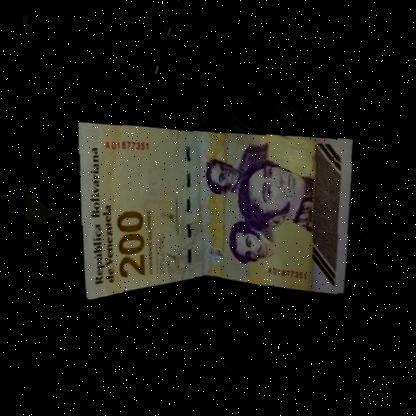two_hundred-front-vef: (56, 107, 364, 329)
